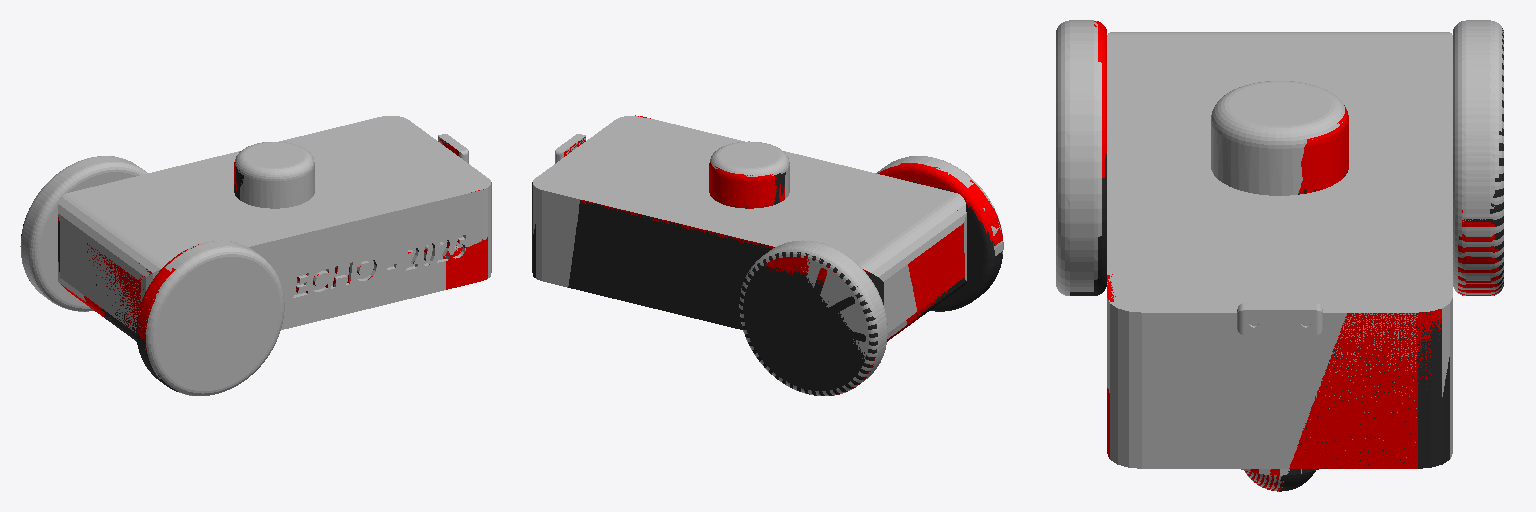
The robot description file, URDF, robot "echo_v1":
<?xml version="1.0" ?>
<!-- =================================================================================== -->
<!-- |    This document was autogenerated by xacro from echo_v1.urdf.xacro             | -->
<!-- |    EDITING THIS FILE BY HAND IS NOT RECOMMENDED                                 | -->
<!-- =================================================================================== -->
<robot name="echo_v1">
  <!-- Red color -->
  <material name="red">
    <color rgba="1.0 0.0 0.0 1.0"/>
  </material>
  <!-- Silver color -->
  <material name="silver">
    <color rgba="0.75 0.75 0.75 1.0"/>
  </material>
  <!-- Black color -->
  <material name="black">
    <color rgba="0.0 0.0 0.0 1.0"/>
  </material>
  <!-- Dark Grey color -->
  <material name="dark_grey">
    <color rgba="0.2 0.2 0.2 1.0"/>
  </material>
  <!-- Base Footprint -->
  <link name="base_footprint"/>
  <joint name="base_footprint_to_base_link" type="fixed">
    <origin rpy="-1.5708 0 0" xyz="0 0 0.02"/>
    <parent link="base_footprint"/>
    <child link="base_link"/>
  </joint>
  <!-- Base Link -->
  <link name="base_link">
    <inertial>
      <origin rpy="0 0 0" xyz="0.00088588 5.7031E-05 0.02478"/>
      <mass value="0.99833"/>
      <inertia ixx="0.0010305" ixy="-1.7168E-06" ixz="1.5313E-05" iyy="0.0035021" iyz="1.7459E-07" izz="0.0041088"/>
    </inertial>
    <visual>
      <origin rpy="0 0 0" xyz="0 0 0"/>
      <geometry>
        <mesh filename="package://echo_sim_v1/meshes/base_link.STL"/>
      </geometry>
      <material name="red"/>
    </visual>
    <!-- <visual>
      <origin xyz="0 0 0" rpy="0 0 0" />
      <geometry>
       <box size="0.3 0.3 0.1"/>
      </geometry>
      <material name="Red"/>
    </visual> -->
    <collision>
      <origin rpy="0 0 0" xyz="0 0 0"/>
      <geometry>
        <mesh filename="package://echo_sim_v1/meshes/base_link.STL"/>
      </geometry>
    </collision>
  </link>
  <!-- Left Wheel -->
  <link name="left_wheel_link">
    <inertial>
      <origin rpy="0 0 0" xyz="-1.3878E-17 0.0075 0"/>
      <mass value="0.073711"/>
      <inertia ixx="3.0207E-05" ixy="-3.1866E-38" ixz="1.075E-37" iyy="5.7735E-05" iyz="1.0613E-38" izz="3.0207E-05"/>
    </inertial>
    <visual>
      <origin rpy="0 0 0" xyz="0 0 0"/>
      <geometry>
        <mesh filename="package://echo_sim_v1/meshes/left_wheel_link.STL"/>
      </geometry>
      <material name="silver"/>
    </visual>
    <collision>
      <origin rpy="0 0 0" xyz="0 0 0"/>
      <geometry>
        <mesh filename="package://echo_sim_v1/meshes/left_wheel_link.STL"/>
      </geometry>
    </collision>
  </link>
  <joint name="base_link_to_left_wheel" type="continuous">
    <origin rpy="-1.5708 0 -1.5708" xyz="-0.07 -0.02 0.05"/>
    <parent link="base_link"/>
    <child link="left_wheel_link"/>
    <axis xyz="0 -1 0"/>
  </joint>
  <!-- Right Wheel -->
  <link name="right_wheel_link">
    <inertial>
      <origin rpy="0 0 0" xyz="-1.3878E-17 -0.0075 0"/>
      <mass value="0.073711"/>
      <inertia ixx="3.0207E-05" ixy="-3.1866E-38" ixz="1.075E-37" iyy="5.7735E-05" iyz="1.0613E-38" izz="3.0207E-05"/>
    </inertial>
    <visual>
      <origin rpy="0 0 0" xyz="0 0 0"/>
      <geometry>
        <mesh filename="package://echo_sim_v1/meshes/right_wheel_link.STL"/>
      </geometry>
      <material name="silver"/>
    </visual>
    <collision>
      <origin rpy="0 0 0" xyz="0 0 0"/>
      <geometry>
        <mesh filename="package://echo_sim_v1/meshes/right_wheel_link.STL"/>
      </geometry>
    </collision>
  </link>
  <joint name="base_link_to_right_wheel" type="continuous">
    <origin rpy="1.5708 0 0" xyz="-0.07 -0.02 -0.05"/>
    <parent link="base_link"/>
    <child link="right_wheel_link"/>
    <axis xyz="0 1 0"/>
  </joint>
  <!-- Caster Wheel -->
  <link name="caster_wheel_link">
    <inertial>
      <origin rpy="0 0 0" xyz="1.3878E-17 -5.5511E-17 0.0045"/>
      <mass value="0.0036191"/>
      <inertia ixx="1.3517E-07" ixy="-1.3235E-23" ixz="-8.7993E-24" iyy="1.3517E-07" iyz="-5.2645E-22" izz="2.0846E-07"/>
    </inertial>
    <visual>
      <origin rpy="0 0 0" xyz="0 0 0"/>
      <geometry>
        <mesh filename="package://echo_sim_v1/meshes/caster_wheel_link.STL"/>
      </geometry>
      <material name="silver"/>
    </visual>
    <collision>
      <origin rpy="0 0 0" xyz="0 0 0"/>
      <geometry>
        <mesh filename="package://echo_sim_v1/meshes/caster_wheel_link.STL"/>
      </geometry>
    </collision>
  </link>
  <joint name="base_link_to_caster_wheel" type="fixed">
    <origin rpy="1.5708 -1.2948 3.1416" xyz="0.07 0.008 0"/>
    <parent link="base_link"/>
    <child link="caster_wheel_link"/>
    <axis xyz="0 0 0"/>
  </joint>
  <!-- Lidar -->
  <link name="lidar_link">
    <inertial>
      <origin rpy="0 0 0" xyz="-2.6195E-17 -1.1719E-17 0.0097699"/>
      <mass value="0.024496"/>
      <inertia ixx="3.1849E-06" ixy="3.1764E-22" ixz="-1.8127E-23" iyy="3.1849E-06" iyz="-3.5234E-23" izz="4.7979E-06"/>
    </inertial>
    <visual>
      <origin rpy="0 0 0" xyz="0 0 0"/>
      <geometry>
        <mesh filename="package://echo_sim_v1/meshes/lidar_link.STL"/>
      </geometry>
      <material name="dark_grey"/>
    </visual>
    <collision>
      <origin rpy="0 0 0" xyz="0 0 0"/>
      <geometry>
        <mesh filename="package://echo_sim_v1/meshes/lidar_link.STL"/>
      </geometry>
    </collision>
  </link>
  <joint name="base_link_to_lidar" type="fixed">
    <origin rpy="1.5708 0.30388 0" xyz="0 -0.05 0"/>
    <parent link="base_link"/>
    <child link="lidar_link"/>
    <axis xyz="0 0 0"/>
  </joint>
  <!-- Camera  -->
  <link name="camera_link">
    <inertial>
      <origin rpy="0 0 0" xyz="0.0024702 4.5609E-18 -6.9389E-18"/>
      <mass value="0.00094737"/>
      <inertia ixx="5.0737E-08" ixy="5.1013E-24" ixz="5.311E-25" iyy="6.9275E-09" iyz="7.8632E-15" izz="4.7598E-08"/>
    </inertial>
    <visual>
      <origin rpy="0 0 0" xyz="0 0 0"/>
      <geometry>
        <mesh filename="package://echo_sim_v1/meshes/camera_link.STL"/>
      </geometry>
      <material name="dark_grey"/>
    </visual>
    <collision>
      <origin rpy="0 0 0" xyz="0 0 0"/>
      <geometry>
        <mesh filename="package://echo_sim_v1/meshes/camera_link.STL"/>
      </geometry>
    </collision>
  </link>
  <joint name="base_link_to_camera" type="fixed">
    <origin rpy="1.5708 0 0" xyz="0.1 -0.049 0"/>
    <parent link="base_link"/>
    <child link="camera_link"/>
    <axis xyz="0 0 0"/>
  </joint>
</robot>

--- What the picture shows (computed from the rendered views, not written in the file) ---
Views: 3 orthographic renders of the robot side by side, from view 1: azimuth 30°, elevation 25°; view 2: azimuth 150°, elevation 25°; view 3: azimuth 270°, elevation 25°.
Robot: echo_v1 — 7 links, 6 joints (2 continuous, 4 fixed); root link base_footprint; default pose: every joint at zero.
Links seen in each view (by area): view 1: caster_wheel_link, right_wheel_link, base_link, left_wheel_link, camera_link; view 2: camera_link, caster_wheel_link, right_wheel_link, base_link, left_wheel_link; view 3: caster_wheel_link, right_wheel_link, base_link, left_wheel_link, camera_link.
Boxes of the visible links, <box> form: caster_wheel_link: <box>21,142,491,395</box>; right_wheel_link: <box>26,116,490,349</box>; base_link: <box>27,139,487,350</box>; left_wheel_link: <box>20,156,147,311</box>; camera_link: <box>21,149,464,391</box>; camera_link: <box>532,181,1002,395</box>; caster_wheel_link: <box>533,123,1003,381</box>; right_wheel_link: <box>533,116,1002,319</box>; base_link: <box>564,115,1002,395</box>; left_wheel_link: <box>739,241,887,395</box>; caster_wheel_link: <box>1056,20,1494,491</box>; right_wheel_link: <box>1107,22,1501,457</box>; base_link: <box>1094,21,1498,491</box>; left_wheel_link: <box>1453,20,1503,295</box>; camera_link: <box>1070,28,1503,491</box>.
Size in the robot's own frame: 0.215 by 0.13 by 0.09 metres.
6 mesh visuals loaded from 6 distinct referenced files (6 binary STL).